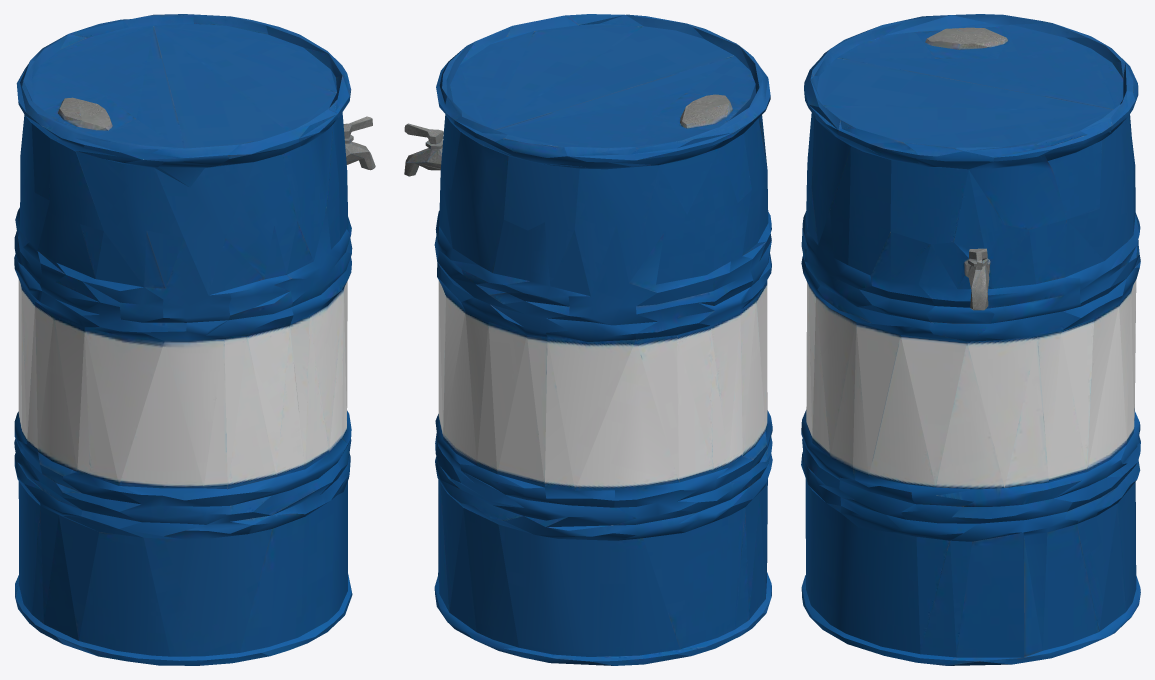
Rendered from drum-blue.glb.
3 views of the same model, side by side, from view 1: azimuth 30°, elevation 25°; view 2: azimuth 150°, elevation 25°; view 3: azimuth 270°, elevation 25° (orthographic).
Visible parts, largest first — view 1: placed; view 2: placed; view 3: placed.
Part boxes in pixels (x1=…): placed: x1=14, y1=14, x2=375, y2=665; placed: x1=404, y1=14, x2=772, y2=665; placed: x1=801, y1=14, x2=1140, y2=665.
Bounding box in the file's own units: 0.3184 × 0.46 × 0.2753.
Materials: 1 (1 with a texture image).
